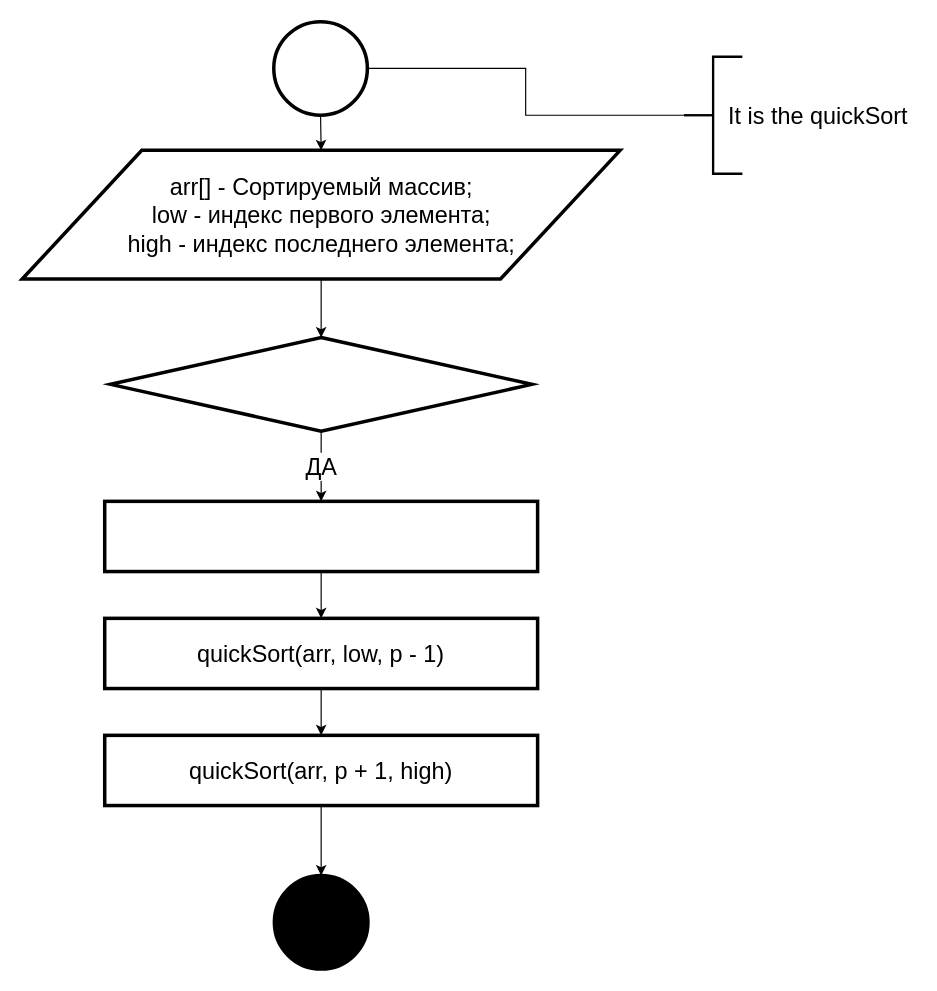
Image size: 937x991. Some labels were removed from this diagram. Here are the shapes that lost their labels. From the top down, the box of each, then its label:
(108, 335, 533, 432): low < high
(102, 499, 539, 573): p = partition(arr, low, high)
